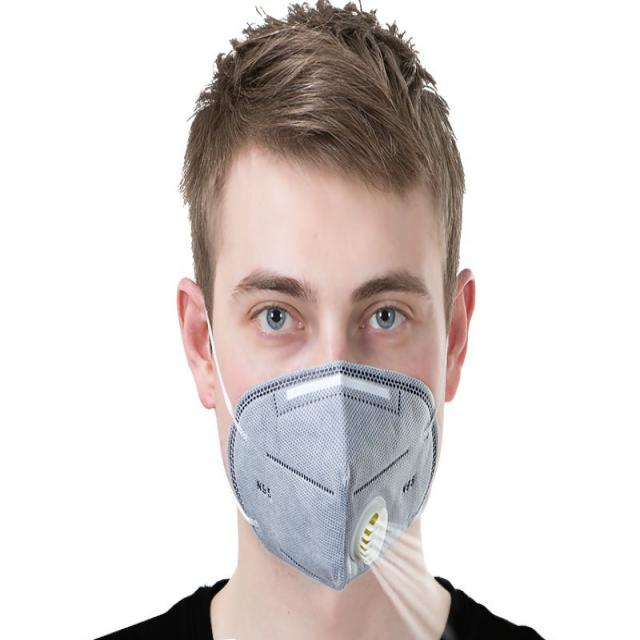mask: (226, 215, 436, 590)
